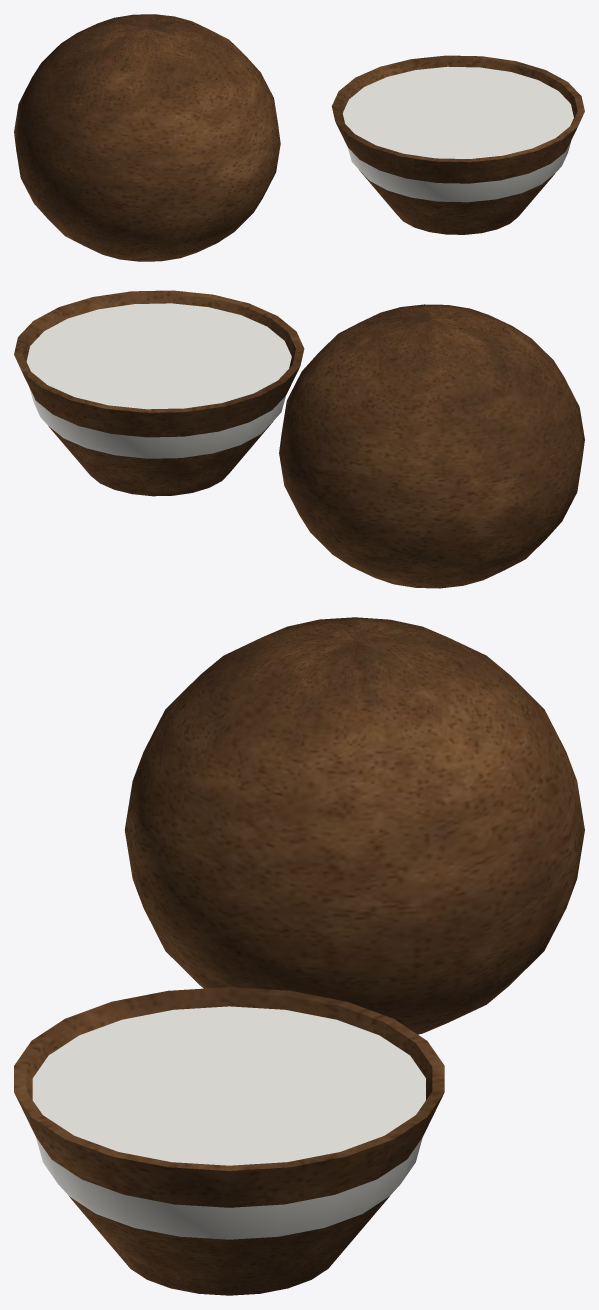
File: fruit_coconut_cracked.glb
The picture shows the model from 3 angles, top to bottom: view 1: azimuth 30°, elevation 25°; view 2: azimuth 150°, elevation 25°; view 3: azimuth 270°, elevation 25°; orthographic projection. The views are drawn at different scales.
Parts seen in each view (by area): view 1: fruit_coconut_cracked; view 2: fruit_coconut_cracked; view 3: fruit_coconut_cracked.
Part boxes in pixels (bbox=[...]): fruit_coconut_cracked: bbox=[14, 14, 584, 261]; fruit_coconut_cracked: bbox=[14, 290, 584, 588]; fruit_coconut_cracked: bbox=[14, 617, 584, 1295].
Bounding box in the file's own units: 0.237 × 0.1 × 0.1364.
2 materials, 1 textured.
